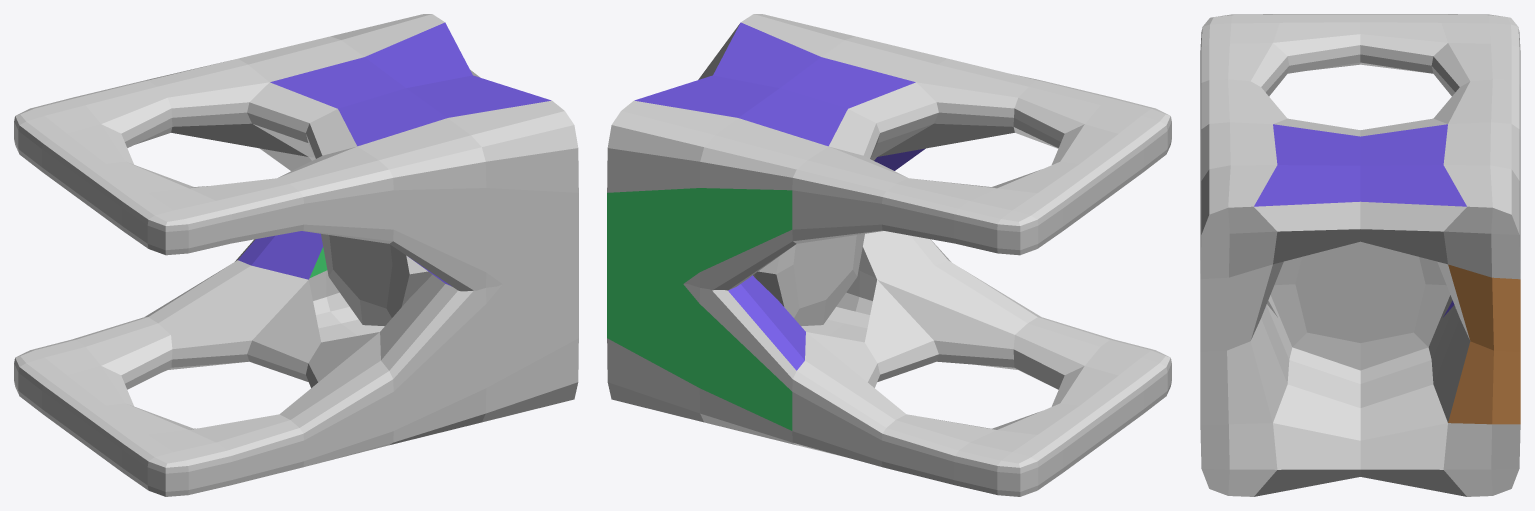
3 views of the same model, side by side, from view 1: azimuth 30°, elevation 25°; view 2: azimuth 150°, elevation 25°; view 3: azimuth 270°, elevation 25° (orthographic).
Visible parts, largest first — view 1: Base3.003; view 2: Base3.003; view 3: Base3.003.
Part boxes in pixels (x1,y1,x2,y2): Base3.003: (14, 14, 578, 496); Base3.003: (607, 14, 1171, 496); Base3.003: (1200, 14, 1520, 496).
Bounding box in the file's own units: 1.5 × 1 × 1.
